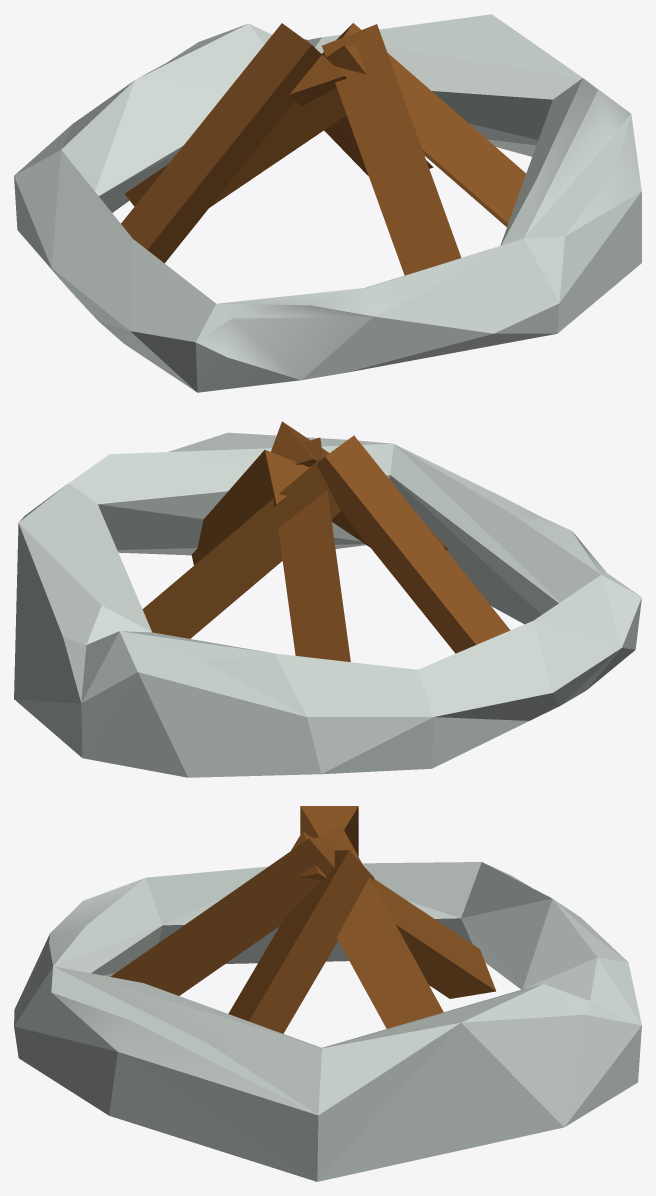
Rendered from Campfire.fbx.
The picture shows the model from 3 angles, top to bottom: view 1: azimuth 30°, elevation 25°; view 2: azimuth 150°, elevation 25°; view 3: azimuth 270°, elevation 25°; orthographic projection. The views are drawn at different scales.
Parts seen in each view (by area): view 1: Campfire; view 2: Campfire; view 3: Campfire.
Boxes of the visible parts, x1,y1,x2,y2 form: Campfire: (14, 14, 641, 392); Campfire: (14, 421, 641, 777); Campfire: (14, 806, 641, 1181).
Bounding box in the file's own units: 70.64 × 29.6 × 70.05.
